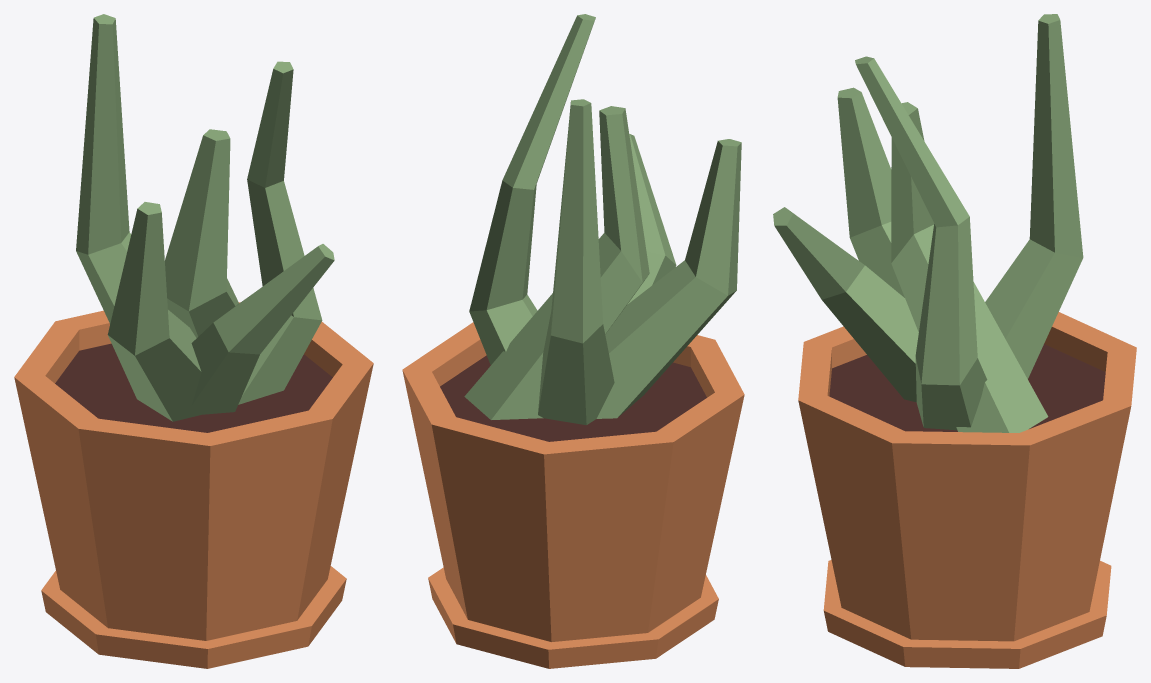
Rendered from Plant1.fbx.
The picture shows the model from 3 angles, left to right: view 1: azimuth 30°, elevation 25°; view 2: azimuth 150°, elevation 25°; view 3: azimuth 270°, elevation 25°; orthographic projection. The views are drawn at different scales.
Parts seen in each view (by area): view 1: Flower_01; view 2: Flower_01; view 3: Flower_01.
Boxes of the visible parts, x1=… form: Flower_01: x1=14, y1=14, x2=373, y2=668; Flower_01: x1=402, y1=14, x2=744, y2=668; Flower_01: x1=773, y1=14, x2=1136, y2=668.
Size of the model in its own units: 20.98 by 38.93 by 22.54.
